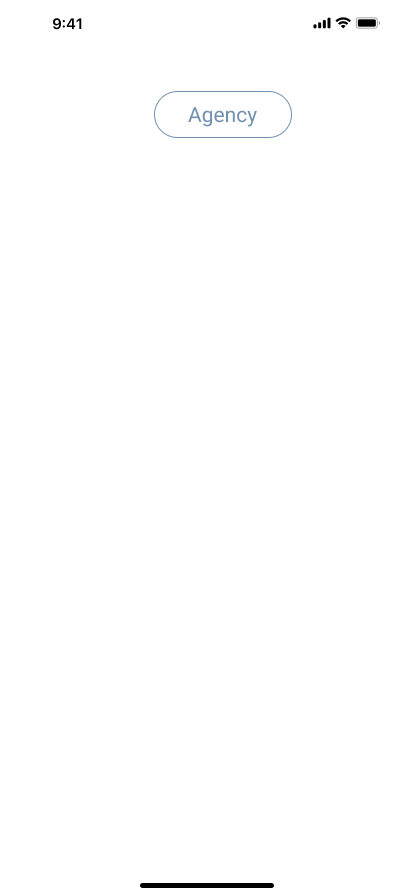Buttons: (154, 91, 300, 138)
Home Indicator: (0, 862, 414, 896)
Status Bar: (0, 0, 414, 44)
